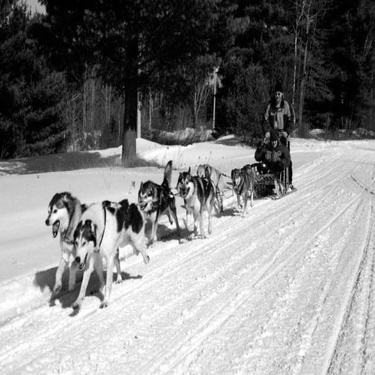dog: (65, 194, 149, 317), (43, 188, 103, 298), (132, 155, 187, 246), (168, 167, 216, 242), (188, 159, 232, 216), (225, 162, 254, 215)
